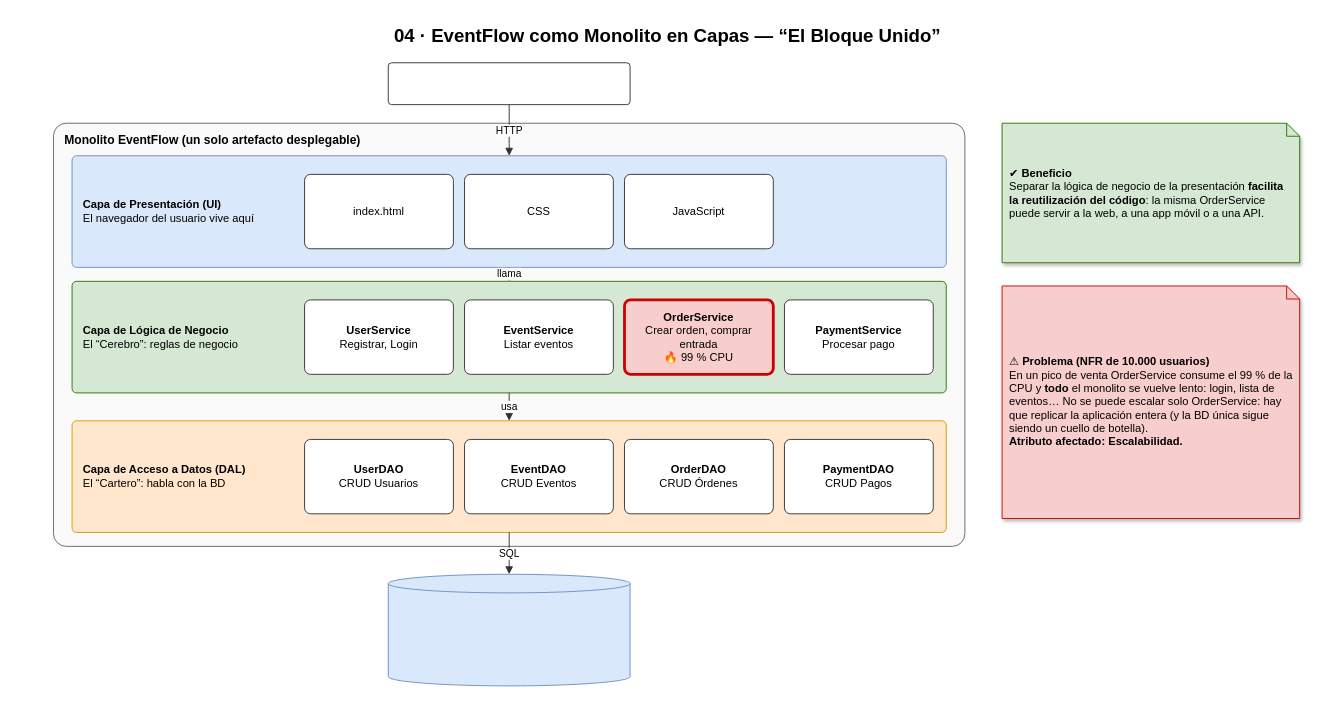
Some shapes in this 1334 by 702 pixel diagram are drawn without their labels. Here are the shapes that lost their labels. From the top down, the centre of each, then its label:
At [508,83]: "🌐 Navegador del usuario".
At [508,629]: "Base de Datos única (SQL) Users · Events · Orders · Payments".
